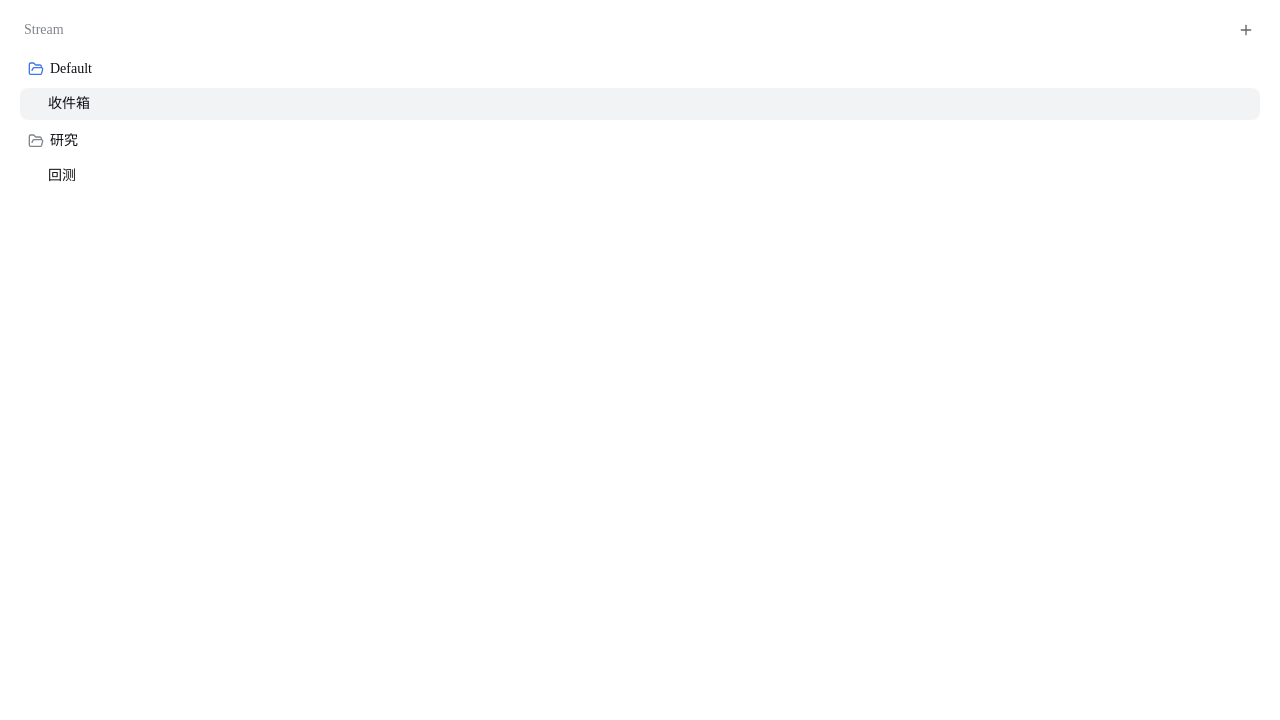
Scenario: 导航的写动作 › 名字是空的就提交不了
This screenshot has width=1280, height=720.
Click the button named "新建".
click(1246, 30)  # box [1232,16,1260,44]
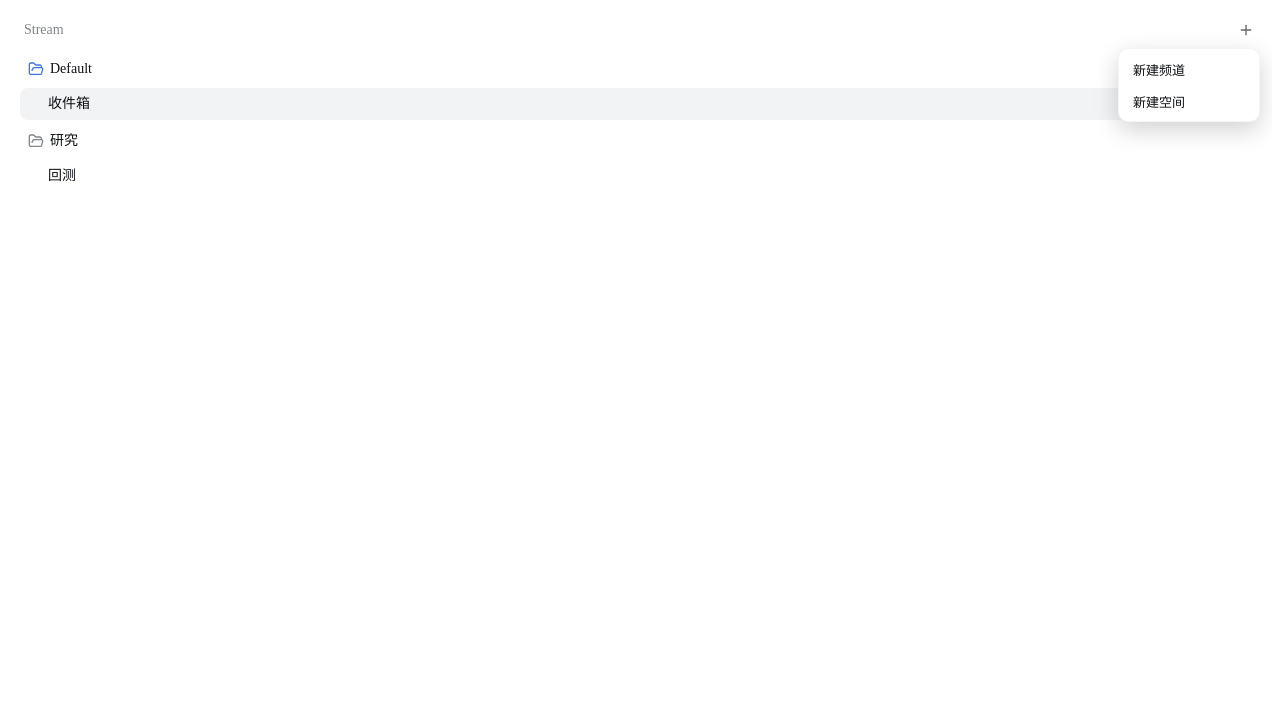
Click the menu item "新建空间".
click(1189, 101)  # box [1123,85,1255,117]
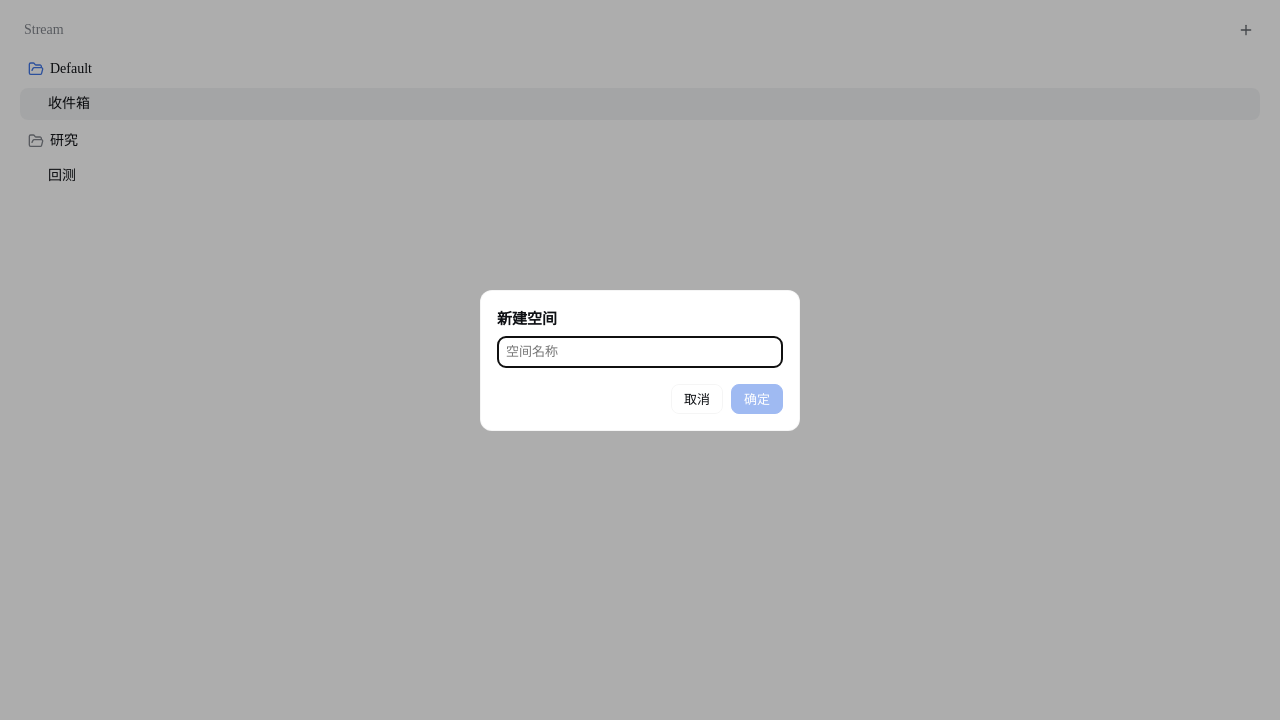
Now the button "确定" is disabled, box [731,384,783,414]
